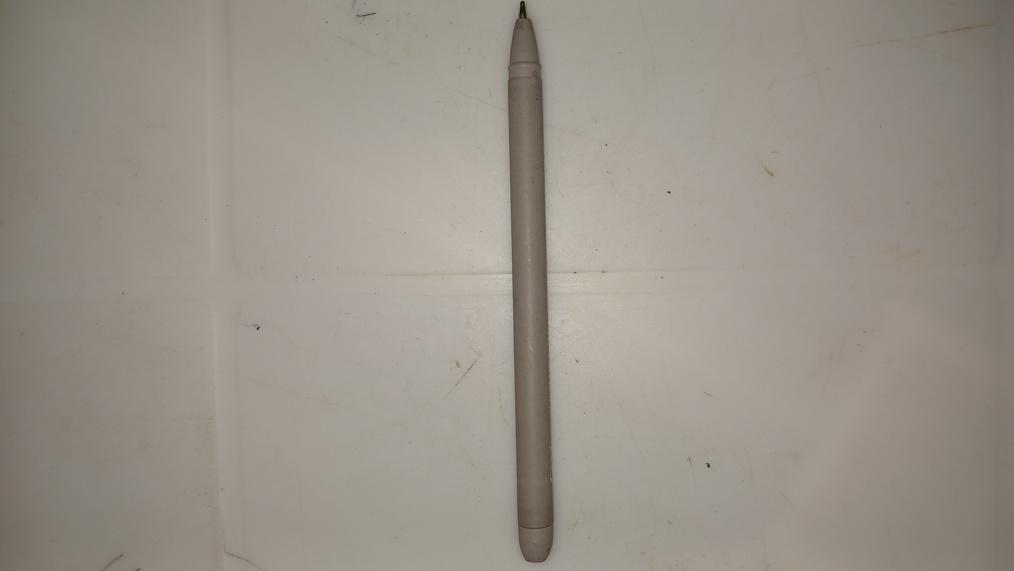pen: (508, 0, 557, 562)
